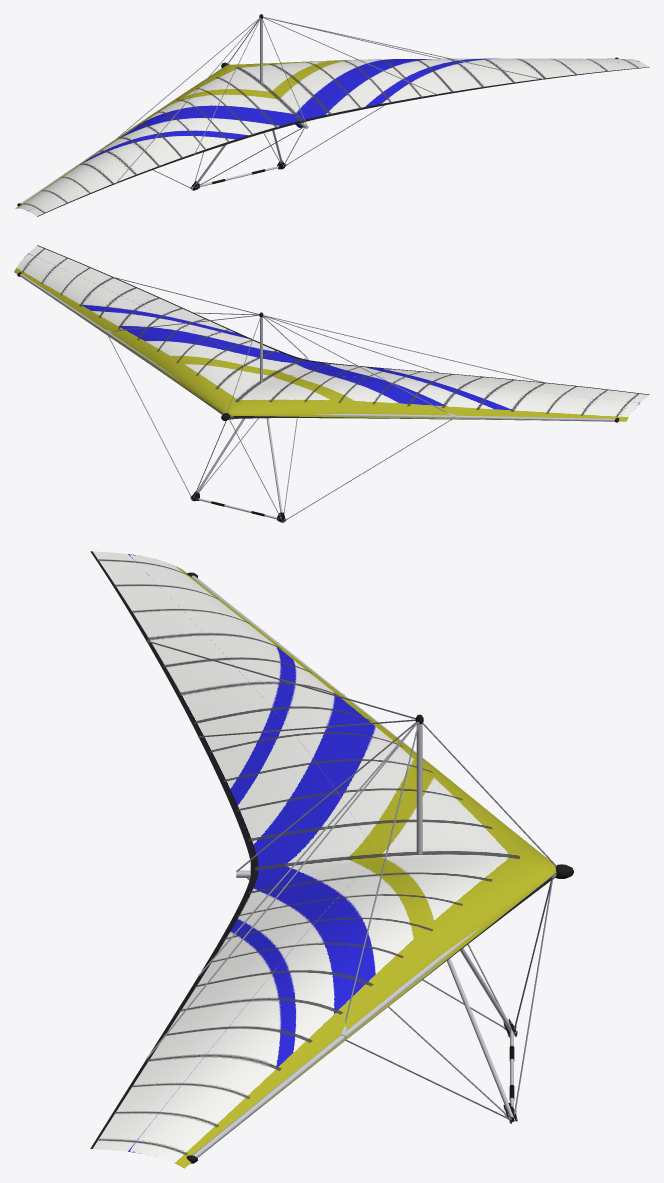
The model's file is glider_ww_ultra_sport.glb.
The picture shows the model from 3 angles, top to bottom: view 1: azimuth 30°, elevation 25°; view 2: azimuth 150°, elevation 25°; view 3: azimuth 270°, elevation 25°; orthographic projection. The views are drawn at different scales.
Visible parts, largest first — view 1: Sail, Frame, ControlFrame; view 2: Sail, Frame, ControlFrame; view 3: Sail, Frame, ControlFrame.
Boxes of the visible parts, x1,y1,x2,y2 form: Sail: [15, 58, 649, 216]; Frame: [17, 14, 618, 206]; ControlFrame: [153, 105, 384, 190]; Sail: [14, 245, 649, 421]; Frame: [17, 272, 619, 422]; ControlFrame: [108, 336, 451, 522]; Sail: [90, 551, 556, 1168]; Frame: [146, 572, 573, 1163]; ControlFrame: [246, 877, 552, 1123].
Bounding box in the file's own units: 9.96 × 2.84 × 3.41.
Materials: 8 (1 with a texture image).
